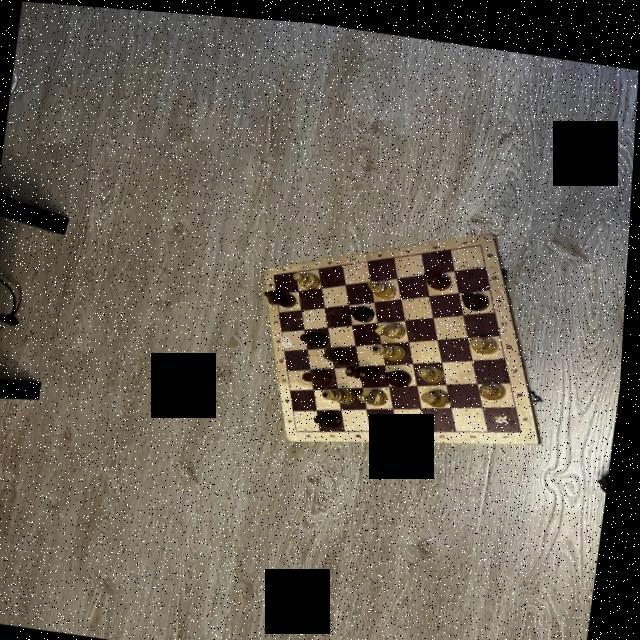chess-table-corners: (522, 420, 528, 424), (481, 234, 486, 238), (274, 268, 278, 270), (300, 423, 302, 426)
